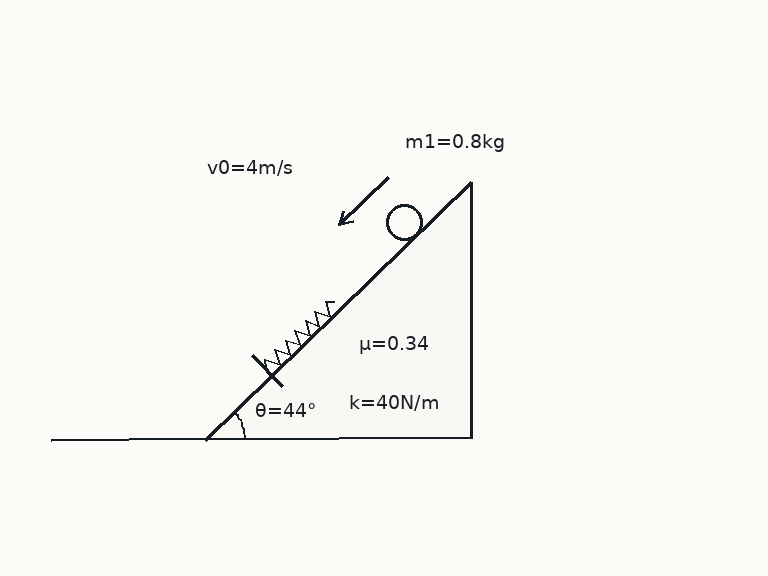ball: (384, 202, 424, 242)
ramp: (203, 180, 473, 441)
spring: (263, 299, 336, 370)
